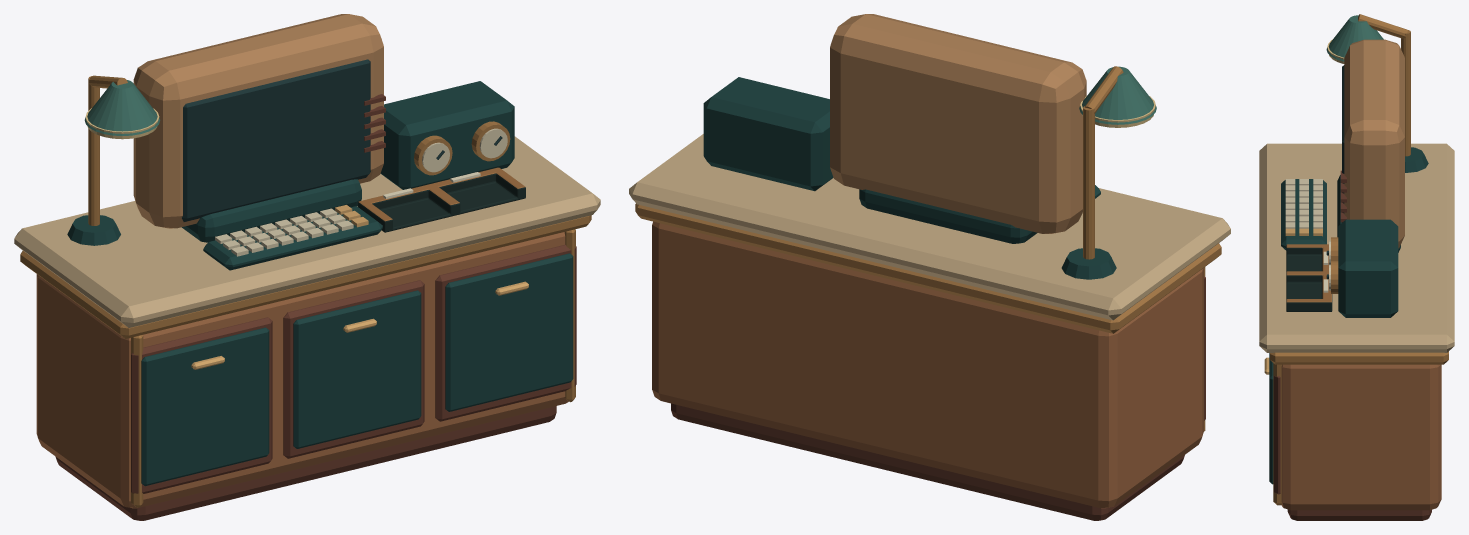
The model's file is workbench.glb.
3 views of the same model, side by side, from view 1: azimuth 30°, elevation 25°; view 2: azimuth 150°, elevation 25°; view 3: azimuth 270°, elevation 25° (orthographic). The views are drawn at different scales.
Parts seen in each view (by area): view 1: Workbench, NoteTray; view 2: Workbench; view 3: Workbench, NoteTray.
Boxes of the visible parts, left/top/right/bottom form: Workbench: left=14, top=14, right=600, bottom=520; NoteTray: left=358, top=167, right=525, bottom=232; Workbench: left=629, top=14, right=1230, bottom=520; Workbench: left=1259, top=14, right=1454, bottom=520; NoteTray: left=1286, top=244, right=1332, bottom=311.
Size of the model in its own units: 2.27 by 1.86 by 0.95.
